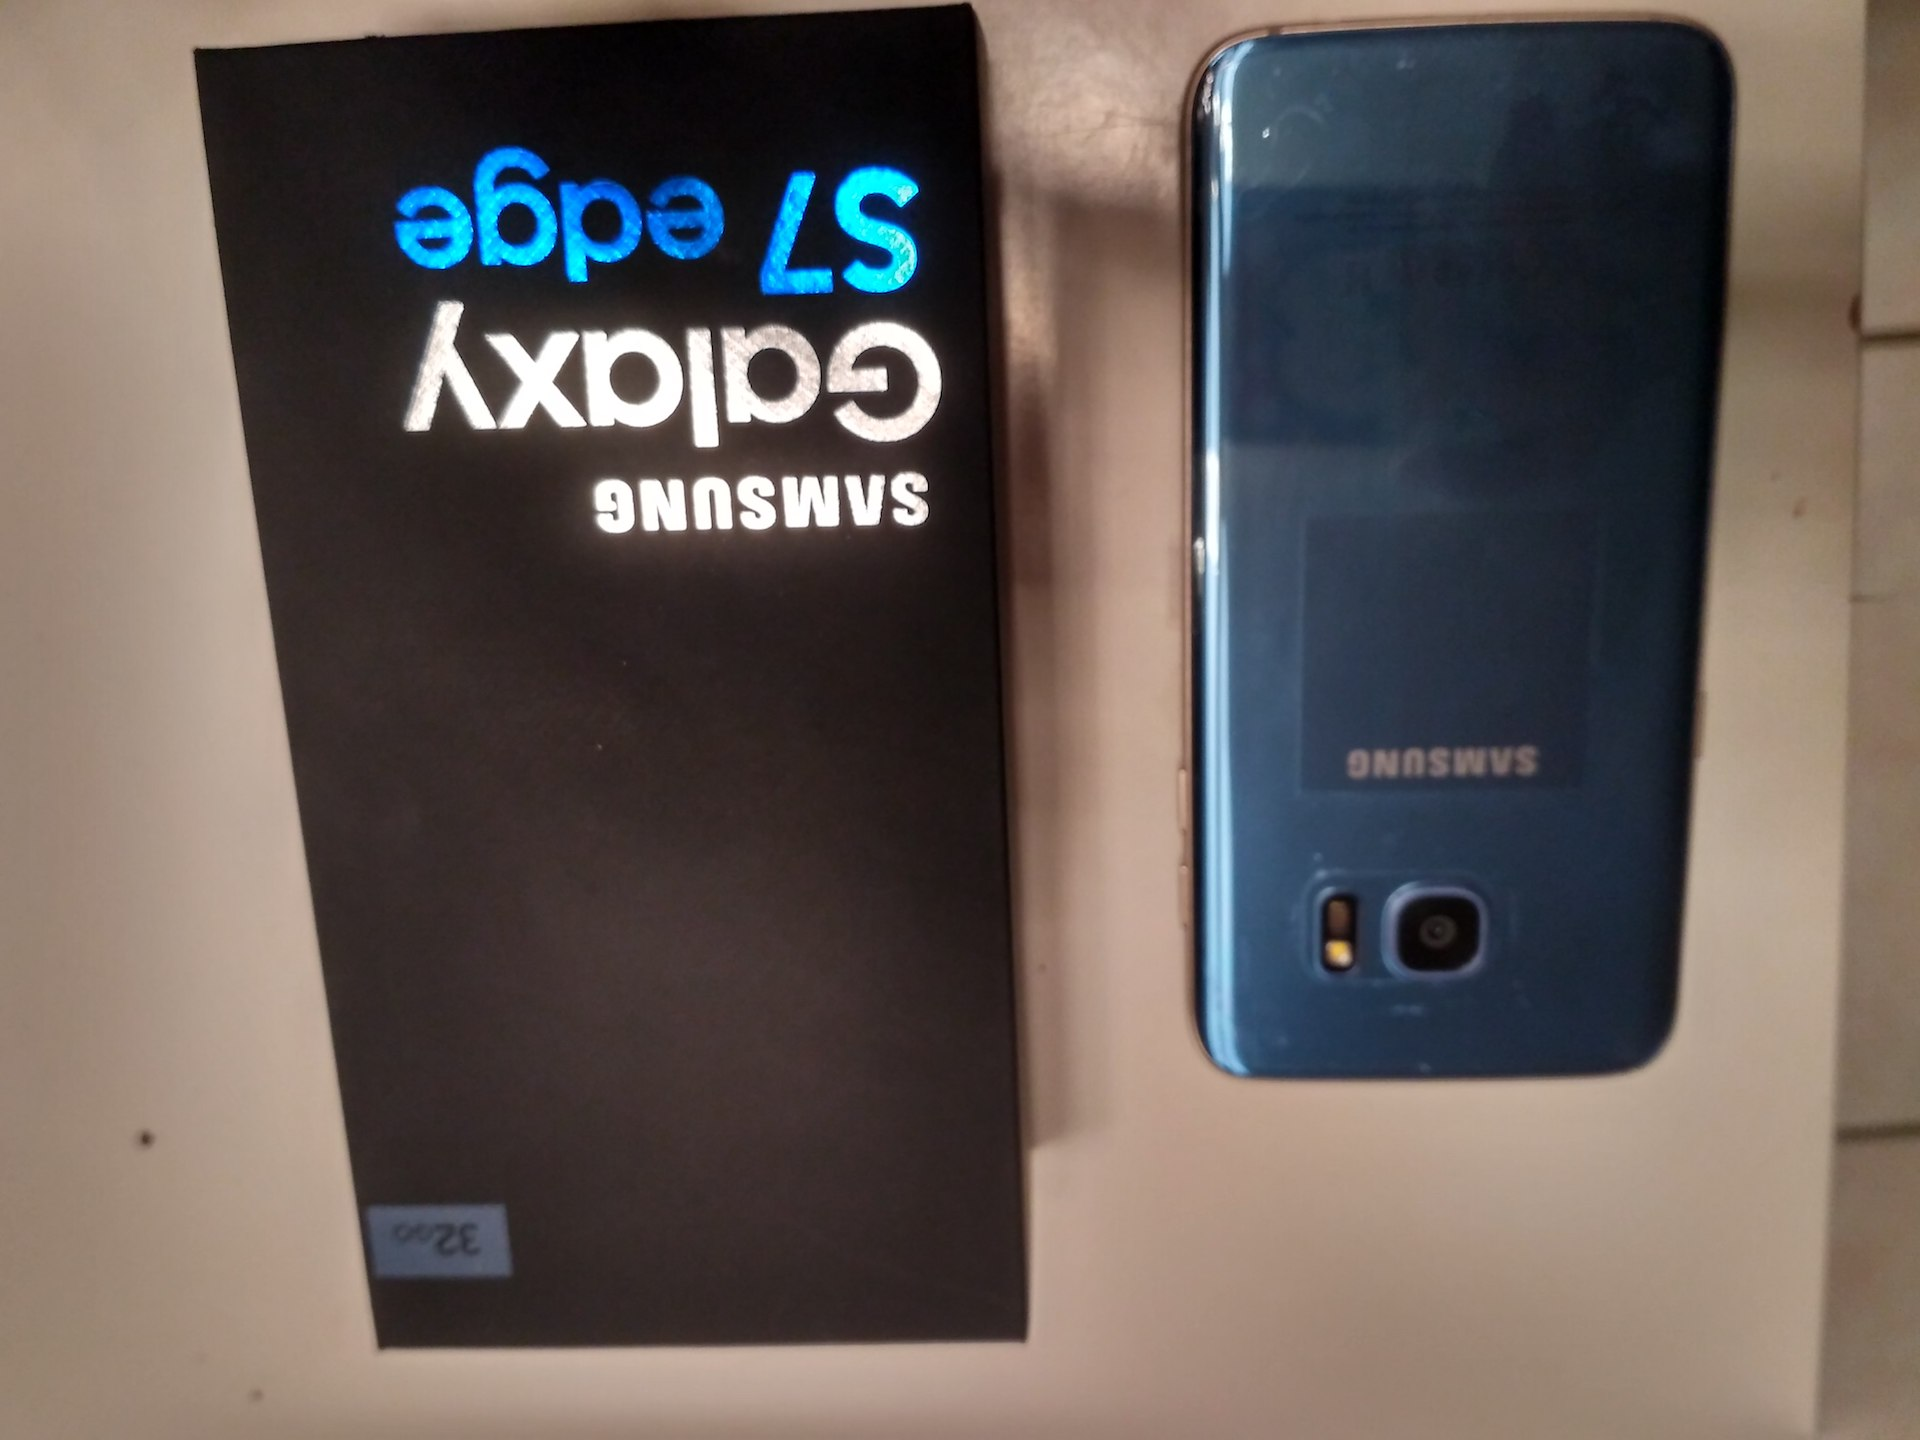smartphone: (1173, 8, 1743, 1088)
